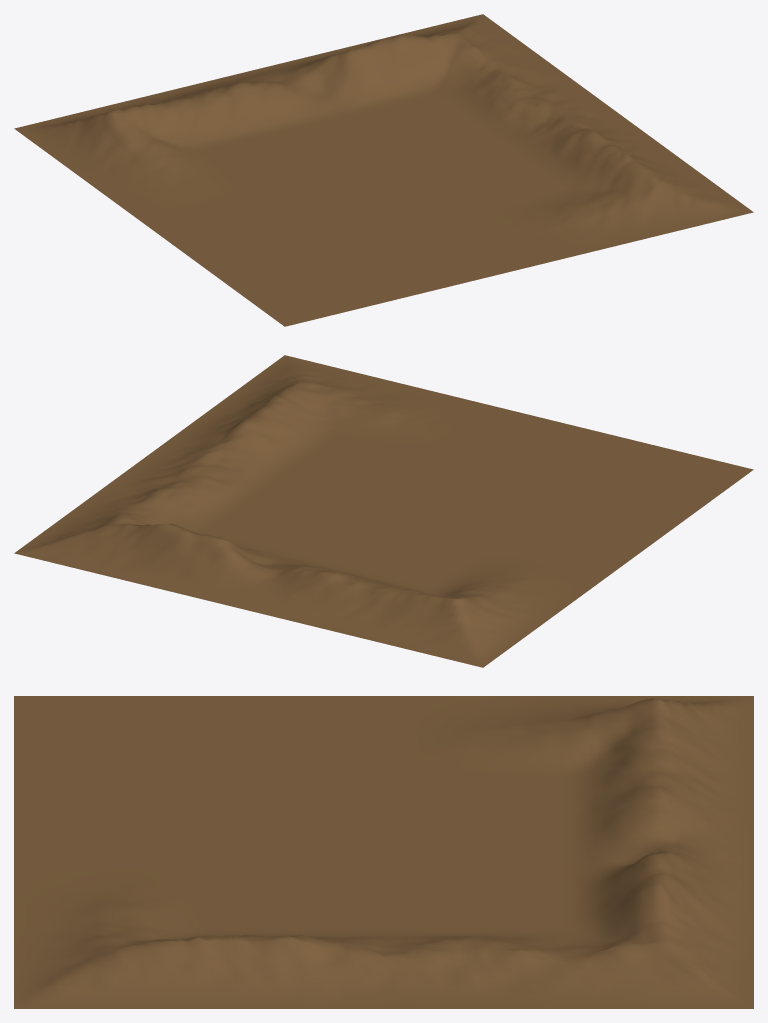
Rendered from terrain-surface.obj.
3 renders of one model, top to bottom at view 1: azimuth 30°, elevation 25°; view 2: azimuth 150°, elevation 25°; view 3: azimuth 270°, elevation 25°, orthographic. The views are drawn at different scales.
Visible parts, largest first — view 1: terrain_surface; view 2: terrain_surface; view 3: terrain_surface.
Boxes of the visible parts, x1,y1,x2,y2 form: terrain_surface: [14, 14, 753, 326]; terrain_surface: [14, 355, 753, 667]; terrain_surface: [14, 696, 753, 1008].
Bounding box in the file's own units: 220 × 14.89 × 220.
